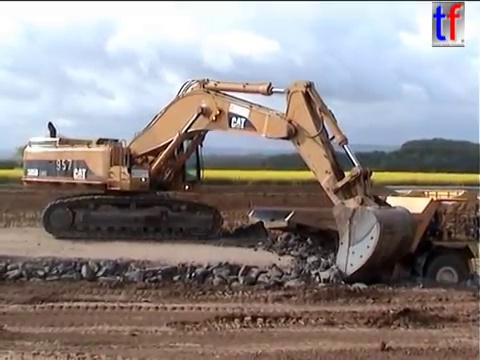excavator: (18, 75, 417, 285)
truck: (244, 185, 480, 304)
